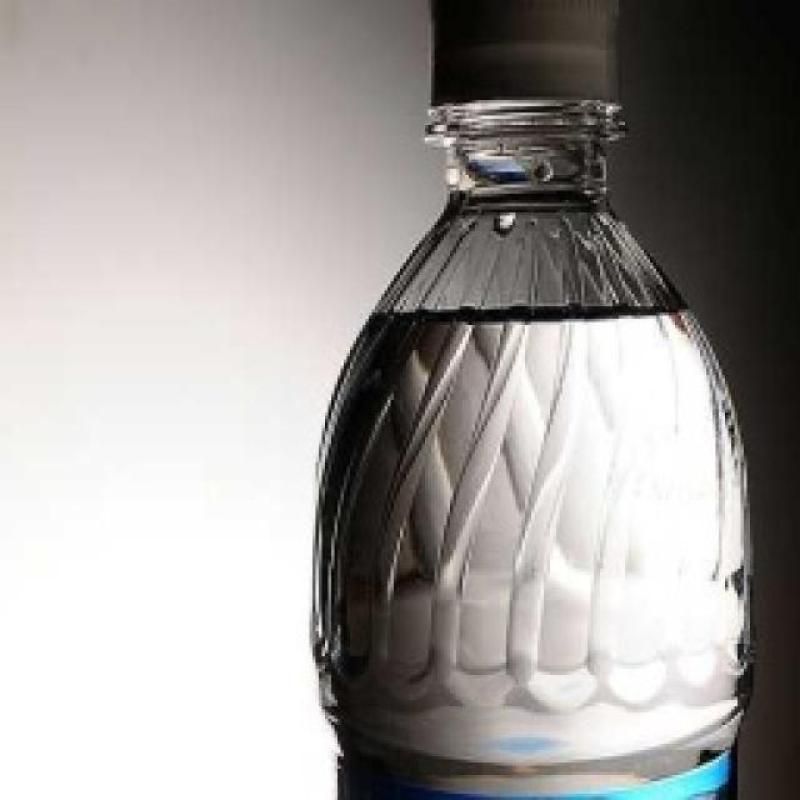botella: (311, 0, 758, 800)
